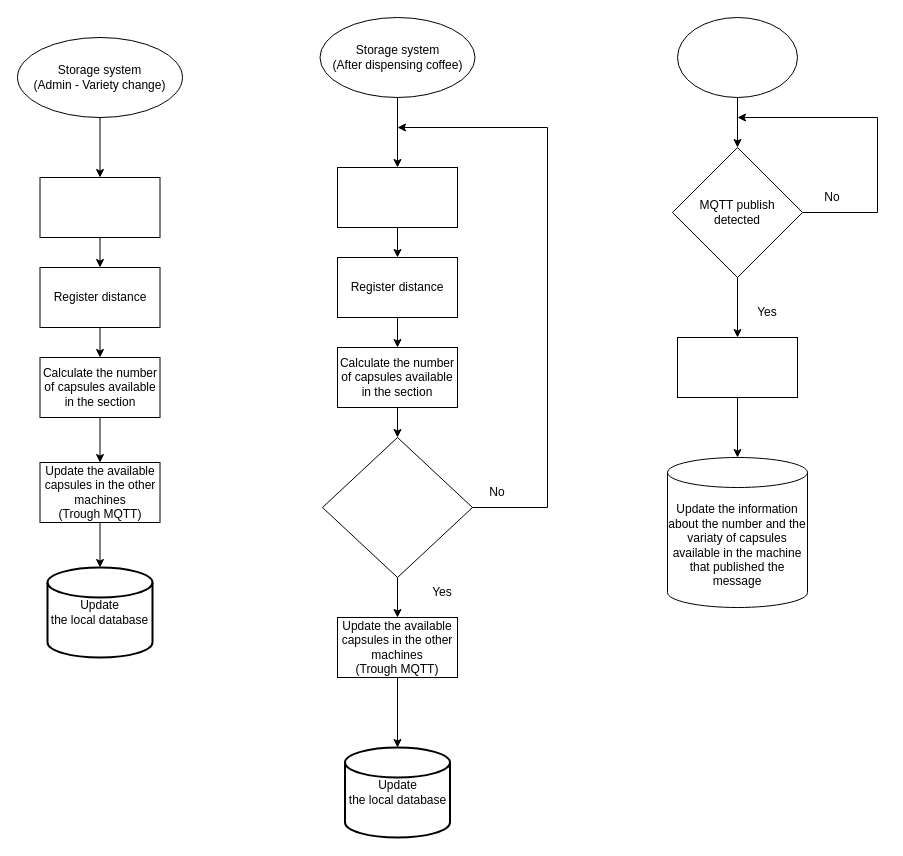
This 903x856 diagram has some shape labels left out. Each missing label, with the centre of its shape:
Activate one Infrared sensors: [397,197]
Activate the infrared sensor in the selected section: [99,207]
Decode the received information: [737,367]
MQTT server: [737,57]
The number of capsules in each section is updated: [397,507]
